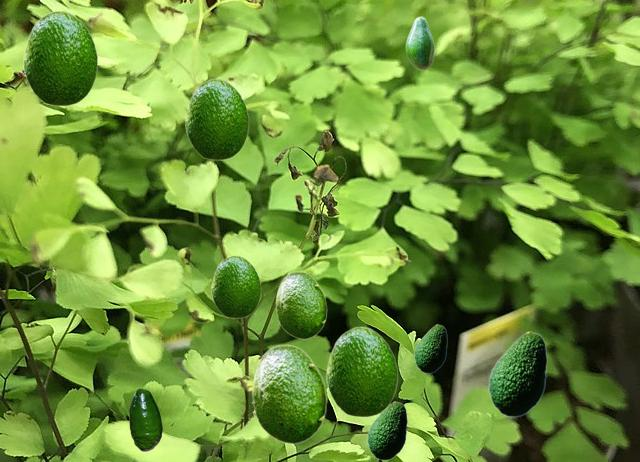avocado: (251, 344, 326, 443), (23, 10, 97, 105), (326, 326, 397, 416), (185, 78, 248, 159), (488, 331, 546, 416), (275, 271, 326, 338), (211, 255, 260, 317), (367, 401, 406, 459), (129, 388, 161, 450), (414, 324, 446, 372), (405, 16, 433, 69)
